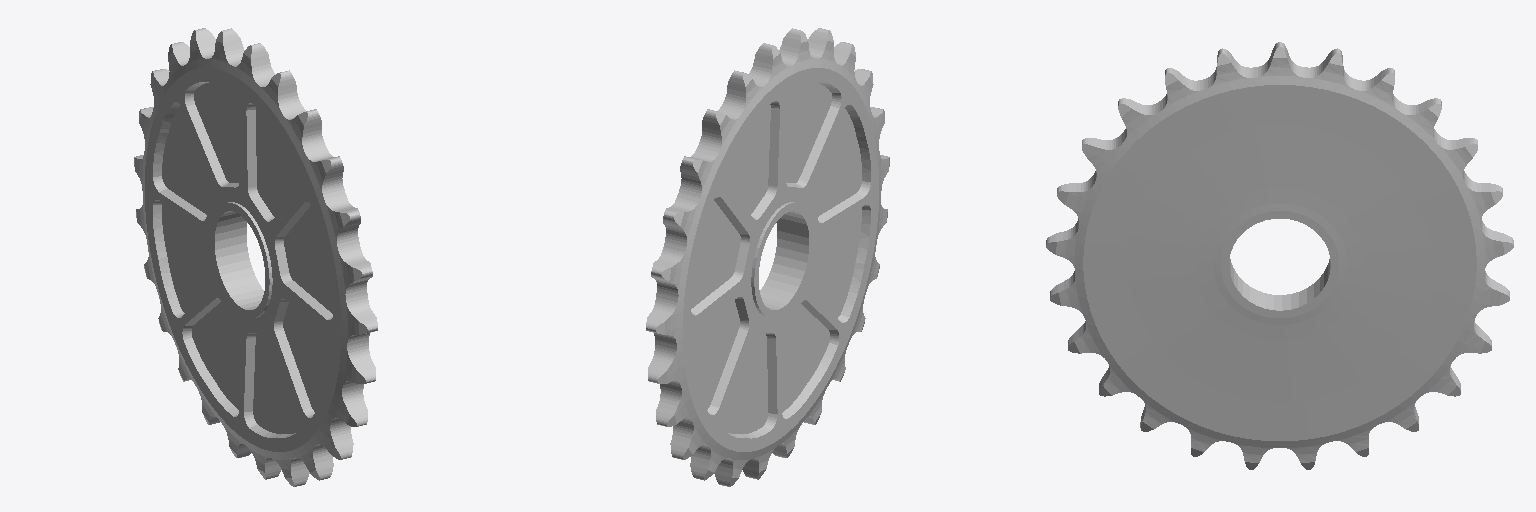
File: cramnersprocket.obj
3 renders of one model, left to right at view 1: azimuth 30°, elevation 25°; view 2: azimuth 150°, elevation 25°; view 3: azimuth 270°, elevation 25°, orthographic.
Visible parts, largest first — view 1: Cranmers; view 2: Cranmers; view 3: Cranmers.
Boxes of the visible parts, x1,y1,x2,y2 form: Cranmers: [134, 28, 377, 486]; Cranmers: [646, 28, 889, 486]; Cranmers: [1046, 42, 1513, 469].
Bounding box in the file's own units: 0.0077 × 0.0975 × 0.0977.